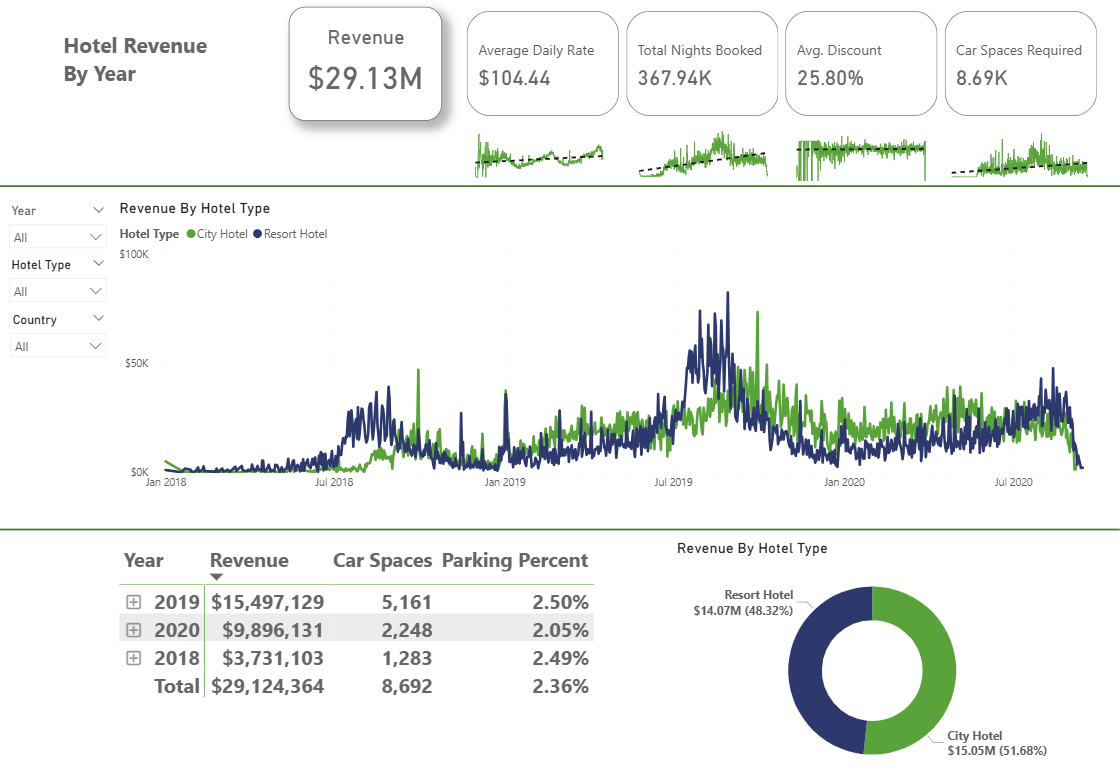

Layout of this report page (visuals, bound fields, positions):
{"tool":"powerbi","page":{"name":"Page 1","canvas":[1280,900],"ordinal":0},"visuals":[{"type":"shape","box":[0,190.7,1280.1,49.9],"z":0},{"type":"shape","box":[0,564.5,1279.6,86.4],"z":1},{"type":"card","title":"Revenue","fields":{"Values":["Sum(Query1.Revenue)"]},"box":[329.9,10.6,175.5,130.1],"z":2},{"type":"lineChart","title":"Revenue By Hotel Type","fields":{"Y":["Sum(Query1.Revenue)"],"Series":["Query1.hotel"],"Category":["Query1.reservation_status_date.Variation.Date Hierarchy.Year","Query1.reservation_status_date.Variation.Date Hierarchy.Quarter","Query1.reservation_status_date.Variation.Date Hierarchy.Month","Query1.reservation_status_date.Variation.Date Hierarchy.Day"]},"box":[131.6,230,1133.3,342],"z":6},{"type":"slicer","fields":{"Values":["Query1.country"]},"box":[1.5,354.1,130.1,66.6],"z":7},{"type":"slicer","fields":{"Values":["Query1.hotel"]},"box":[0,292,131.6,62],"z":8},{"type":"lineChart","fields":{"Y":["Avg(Query1.adr)"],"Category":["Query1.reservation_status_date.Variation.Date Hierarchy.Year","Query1.reservation_status_date.Variation.Date Hierarchy.Quarter","Query1.reservation_status_date.Variation.Date Hierarchy.Month","Query1.reservation_status_date.Variation.Date Hierarchy.Day"]},"box":[528.1,130.1,175.5,81.7],"z":9},{"type":"lineChart","fields":{"Y":["Query1._Total Nights"],"Category":["Query1.reservation_status_date.Variation.Date Hierarchy.Year","Query1.reservation_status_date.Variation.Date Hierarchy.Quarter","Query1.reservation_status_date.Variation.Date Hierarchy.Month","Query1.reservation_status_date.Variation.Date Hierarchy.Day"]},"box":[715.7,124.1,177,86.2],"z":10},{"type":"lineChart","fields":{"Y":["Avg(Query1.Discount)"],"Category":["Query1.reservation_status_date.Variation.Date Hierarchy.Year","Query1.reservation_status_date.Variation.Date Hierarchy.Quarter","Query1.reservation_status_date.Variation.Date Hierarchy.Month","Query1.reservation_status_date.Variation.Date Hierarchy.Day"]},"box":[895.8,127.1,177,87.8],"z":11},{"type":"lineChart","fields":{"Y":["Sum(Query1.required_car_parking_spaces)"],"Category":["Query1.reservation_status_date.Variation.Date Hierarchy.Year","Query1.reservation_status_date.Variation.Date Hierarchy.Quarter","Query1.reservation_status_date.Variation.Date Hierarchy.Month","Query1.reservation_status_date.Variation.Date Hierarchy.Day"]},"box":[1072.8,122.6,186.1,87.8],"z":13},{"type":"donutChart","title":"Revenue By Hotel Type","fields":{"Category":["Query1.hotel"],"Y":["Sum(Query1.Revenue)"]},"box":[768.7,618.9,457,281.4],"z":14},{"type":"pivotTable","fields":{"Rows":["Query1.reservation_status_date.Variation.Date Hierarchy.Year","Query1.hotel"],"Values":["Sum(Query1.Revenue)","Sum(Query1.required_car_parking_spaces)","Query1._Parking Percent"]},"box":[131.6,618.9,584.1,264.8],"z":15},{"type":"slicer","fields":{"Values":["Query1.reservation_status_date.Variation.Date Hierarchy.Year"]},"box":[0,230,131.6,62],"z":16},{"type":"cardVisual","fields":{"Data":["Avg(Query1.adr)","Query1._Total Nights","Avg(Query1.Discount)","Sum(Query1.required_car_parking_spaces)"]},"box":[528.1,10.6,730.8,130.1],"z":17},{"type":"textbox","box":[66.6,33.3,190.7,83.2],"z":18}]}

Visuals, with their boxes in screenshot pixels (x1, y1, x2, y2), scaled from the page's 1280x900 canvas onto the 1120x780 screenshot:
shape: left=0, top=165, right=1119, bottom=209
shape: left=0, top=489, right=1119, bottom=564
"Revenue" card: left=289, top=9, right=442, bottom=122
"Revenue By Hotel Type" lineChart: left=115, top=199, right=1107, bottom=496
slicer - Query1.country: left=1, top=307, right=115, bottom=365
slicer - Query1.hotel: left=0, top=253, right=115, bottom=307
lineChart - Avg(Query1.adr) x Query1.reservation_status_date.Variation.Date Hierarchy.Year: left=462, top=113, right=616, bottom=184
lineChart - Query1._Total Nights x Query1.reservation_status_date.Variation.Date Hierarchy.Year: left=626, top=108, right=781, bottom=182
lineChart - Avg(Query1.Discount) x Query1.reservation_status_date.Variation.Date Hierarchy.Year: left=784, top=110, right=939, bottom=186
lineChart - Sum(Query1.required_car_parking_spaces) x Query1.reservation_status_date.Variation.Date Hierarchy.Year: left=939, top=106, right=1102, bottom=182
"Revenue By Hotel Type" donutChart: left=673, top=536, right=1072, bottom=779
pivotTable - Query1.reservation_status_date.Variation.Date Hierarchy.Year x Query1.hotel: left=115, top=536, right=626, bottom=766
slicer - Query1.reservation_status_date.Variation.Date Hierarchy.Year: left=0, top=199, right=115, bottom=253
cardVisual - Avg(Query1.adr) x Query1._Total Nights: left=462, top=9, right=1102, bottom=122
textbox: left=58, top=29, right=225, bottom=101
